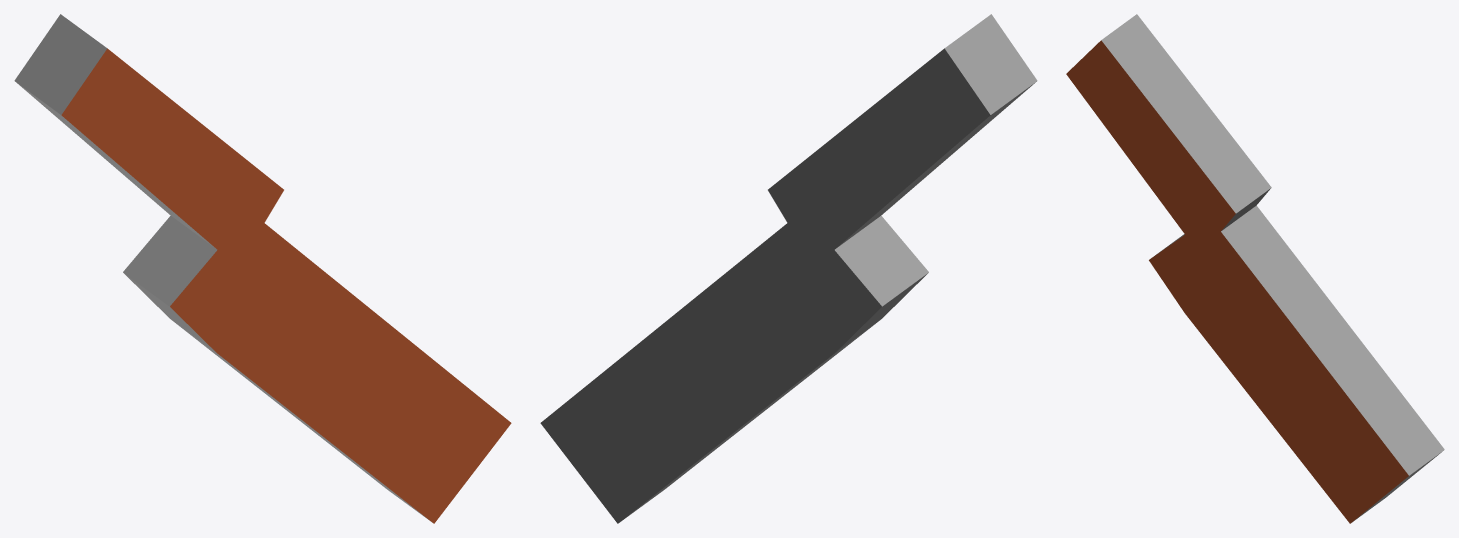
File: construction_4155_assumed_A_Casa_h6m.obj
3 views of the same model, side by side, from view 1: azimuth 30°, elevation 25°; view 2: azimuth 150°, elevation 25°; view 3: azimuth 330°, elevation 25° (orthographic). The views are drawn at different scales.
Visible parts, largest first — view 1: construction_4155_assumed_A_Casa; view 2: construction_4155_assumed_A_Casa; view 3: construction_4155_assumed_A_Casa.
Part boxes in pixels (x1=…): construction_4155_assumed_A_Casa: x1=14, y1=14, x2=511, y2=523; construction_4155_assumed_A_Casa: x1=540, y1=14, x2=1037, y2=523; construction_4155_assumed_A_Casa: x1=1066, y1=14, x2=1444, y2=523.
Bounding box in the file's own units: 33.21 × 39.13 × 6.
